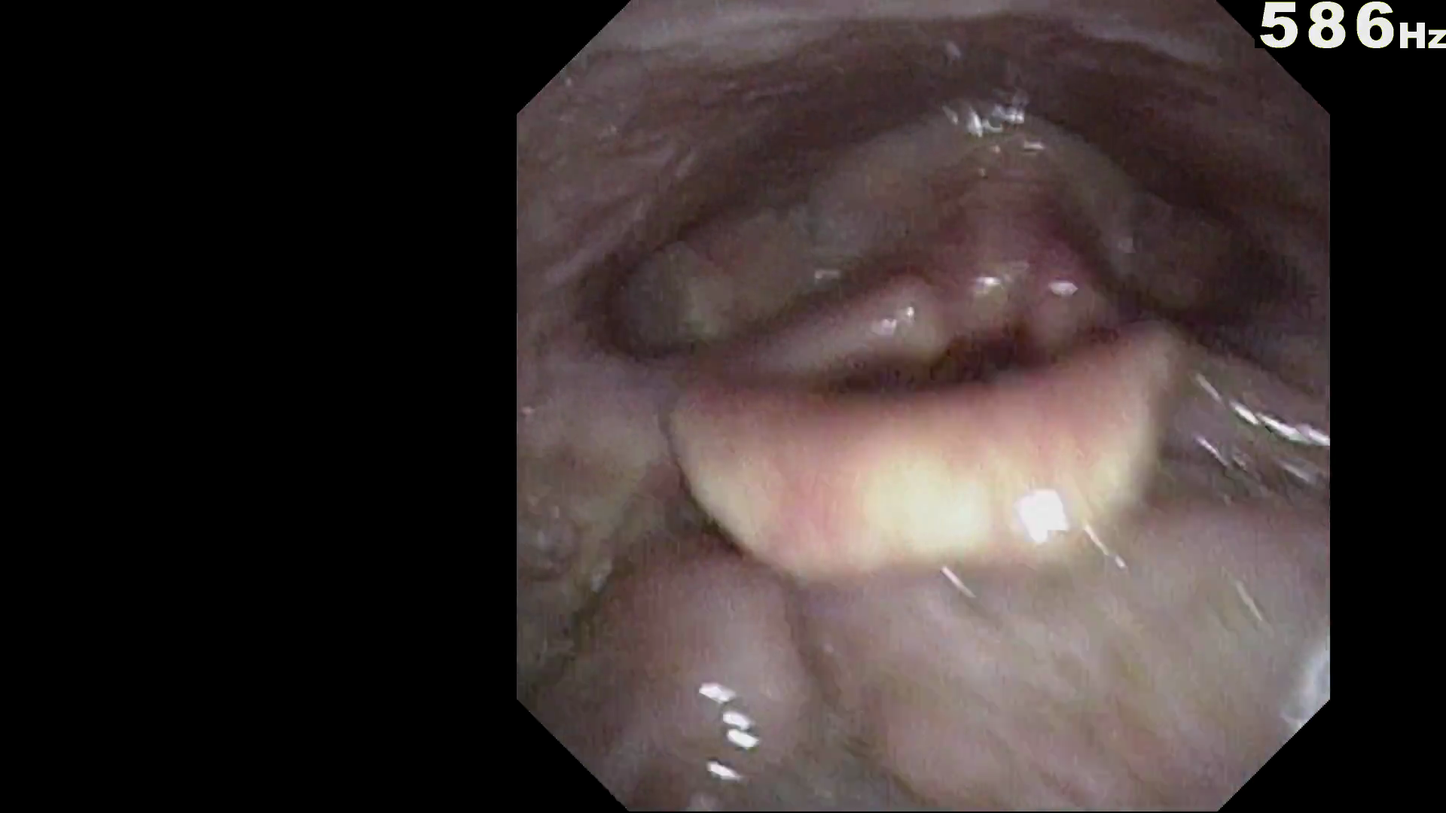epiglottis: (692, 346, 1245, 526)
